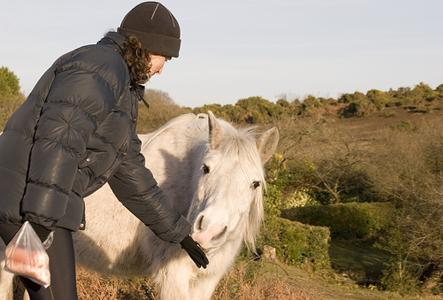person: (3, 3, 208, 300)
